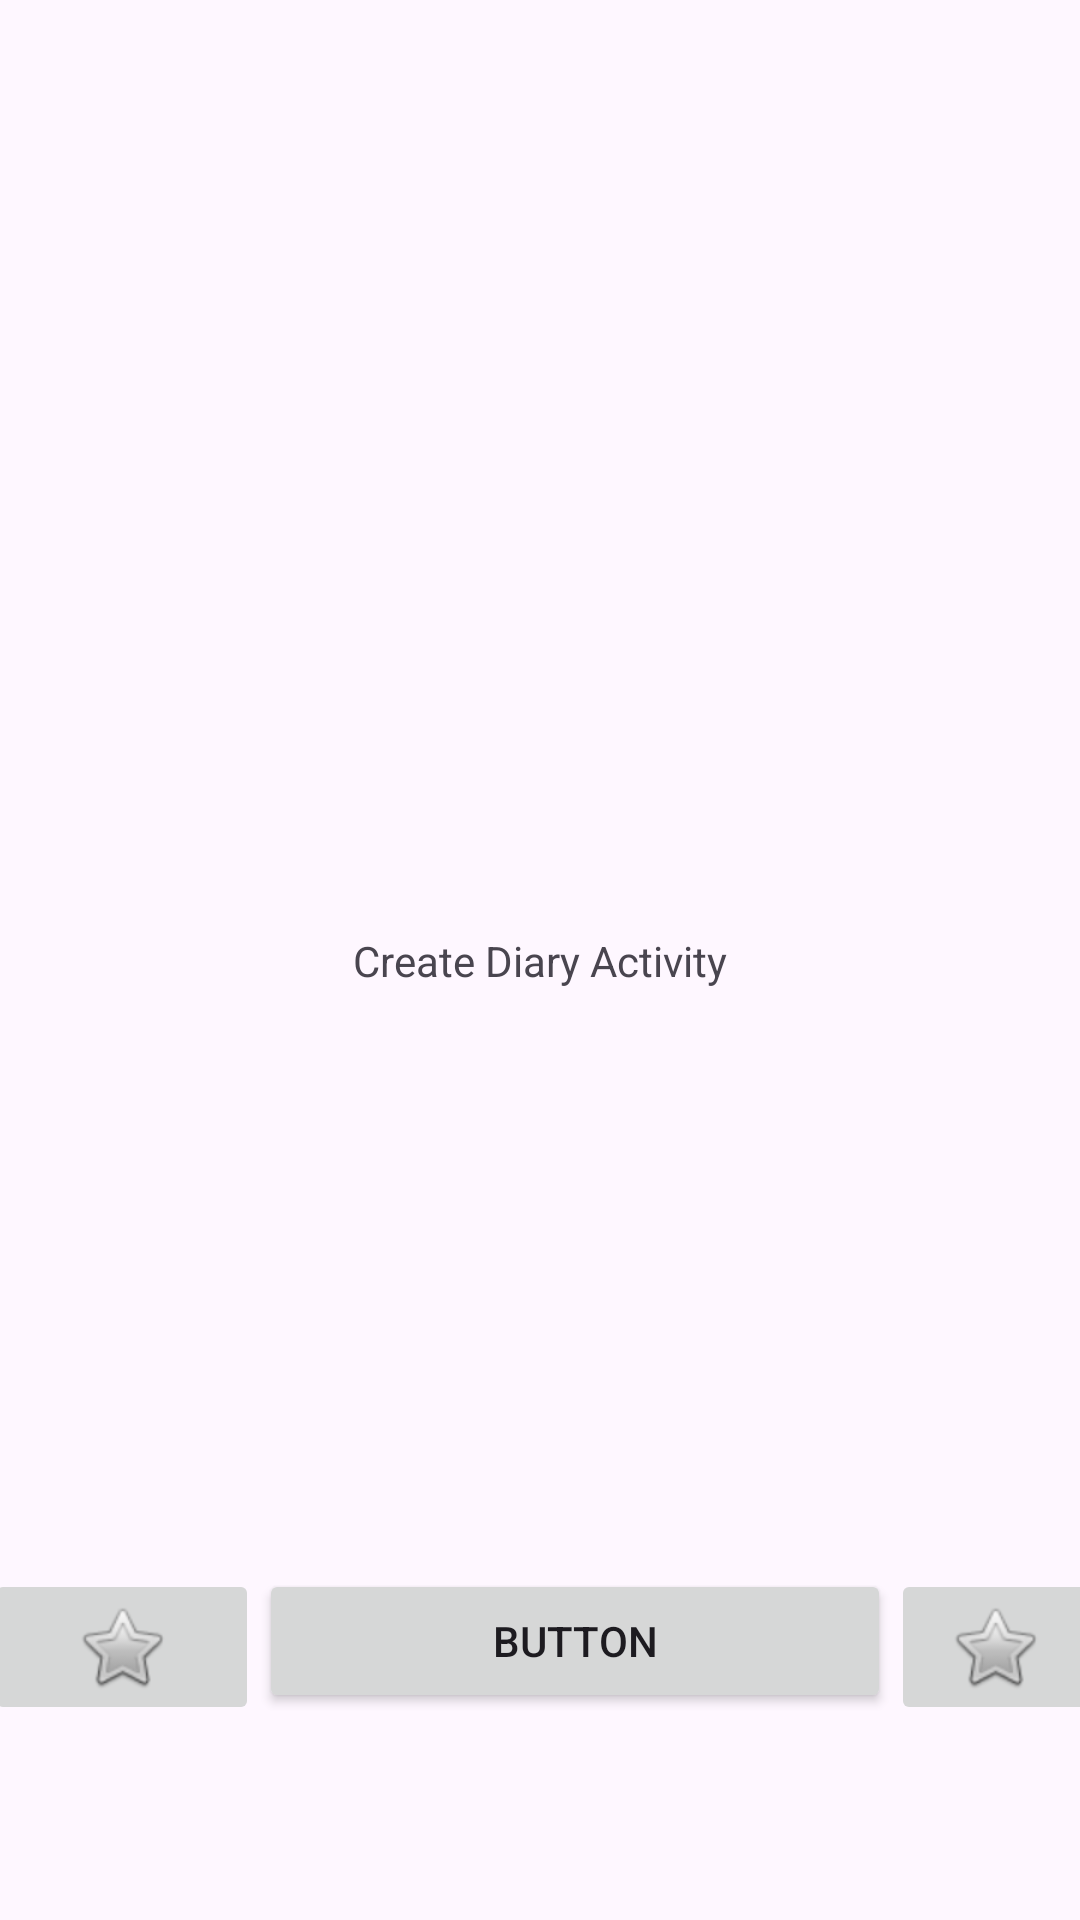

Icons on this 1080×1920 Android screen, each with its box as (x1, y1, x2, y2):
star: (0, 1587, 247, 1707), (903, 1587, 1080, 1707)
